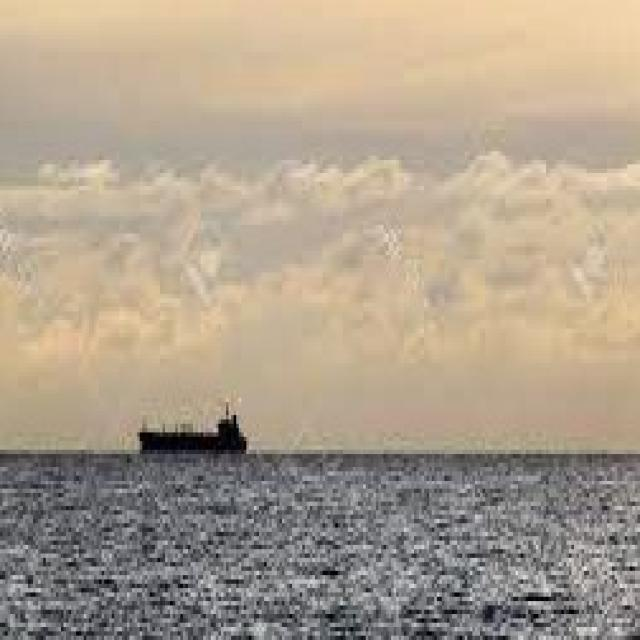cargoship: (126, 392, 255, 450)
